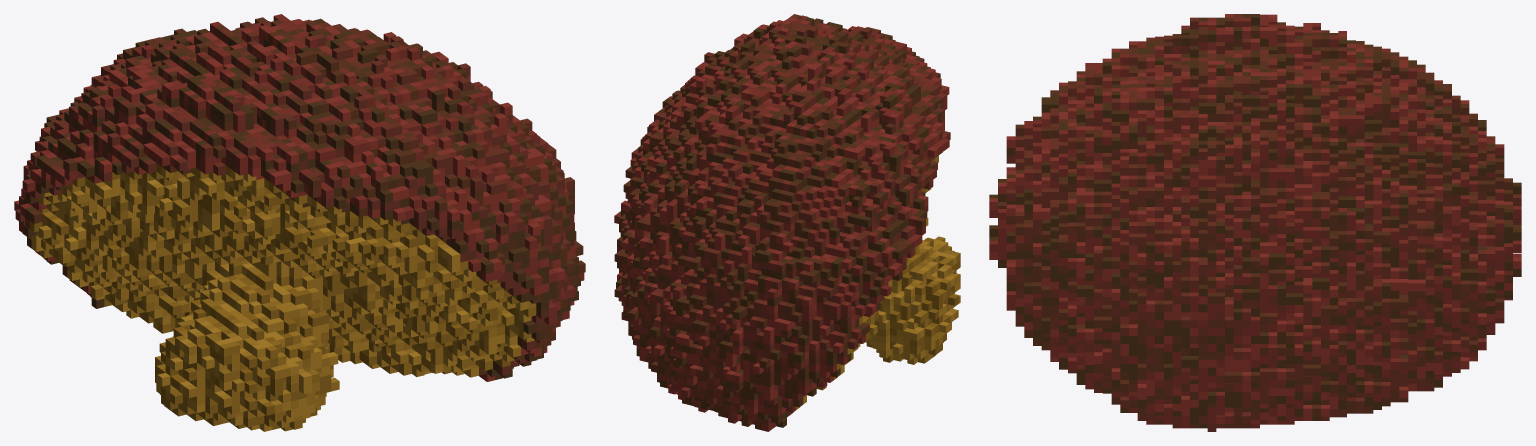
File: Loyo-dying.obj
3 views of the same model, side by side, from view 1: azimuth 30°, elevation 25°; view 2: azimuth 150°, elevation 25°; view 3: azimuth 270°, elevation 25° (orthographic). The views are drawn at different scales.
Bounding box in the file's own units: 4.8 × 4 × 6.1.
Materials: 1 (1 with a texture image).
